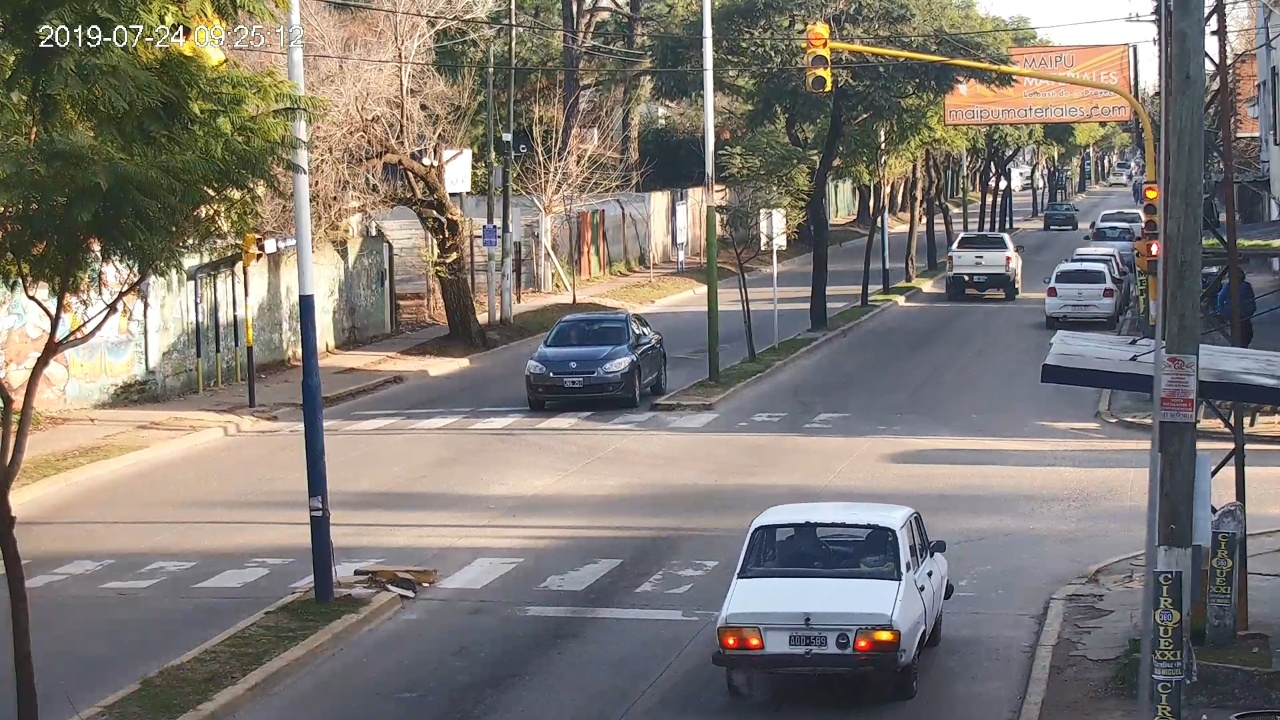car: (713, 503, 953, 697), (946, 232, 1024, 301)
front car: (525, 311, 667, 410)
traffic light: (806, 25, 830, 92), (1142, 184, 1159, 232)
